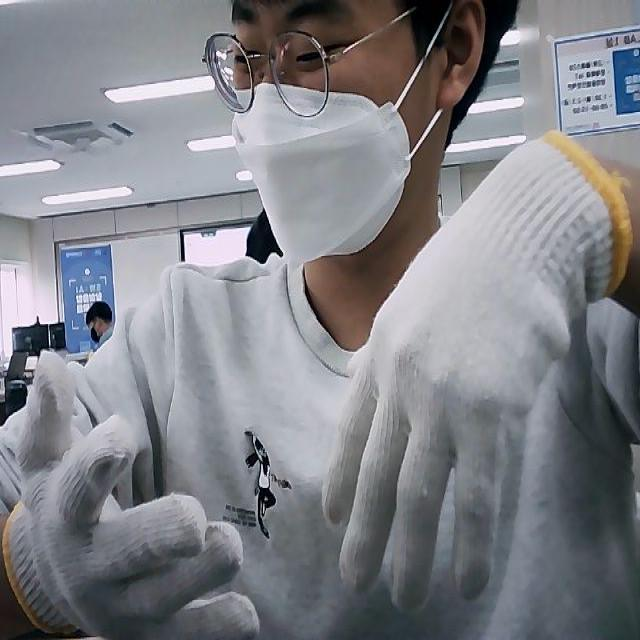gloves: (322, 132, 628, 607), (0, 350, 259, 640)
